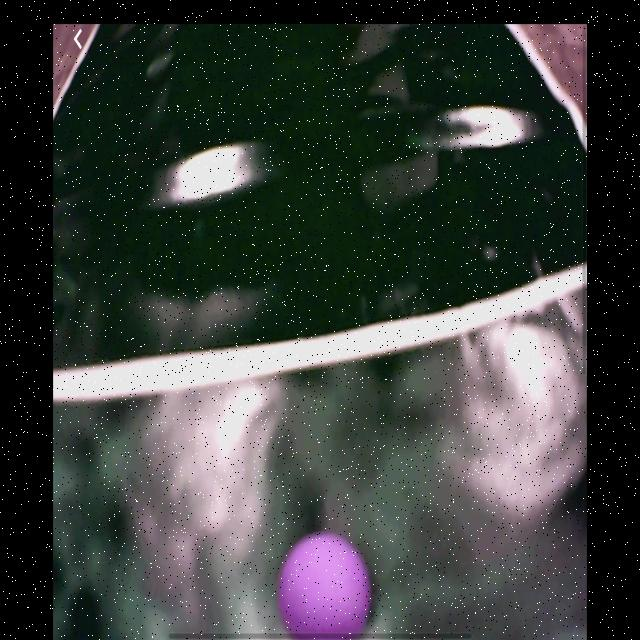ball: (278, 531, 373, 638)
